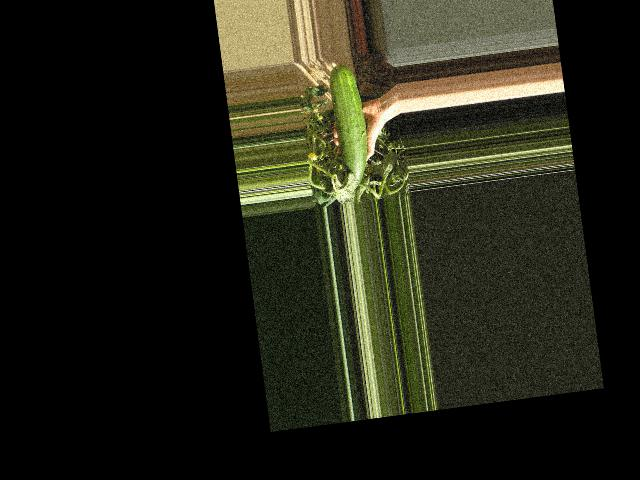cucumber: (327, 62, 373, 187)
